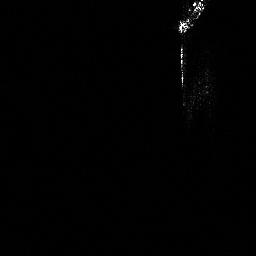ship: (173, 1, 209, 38)
